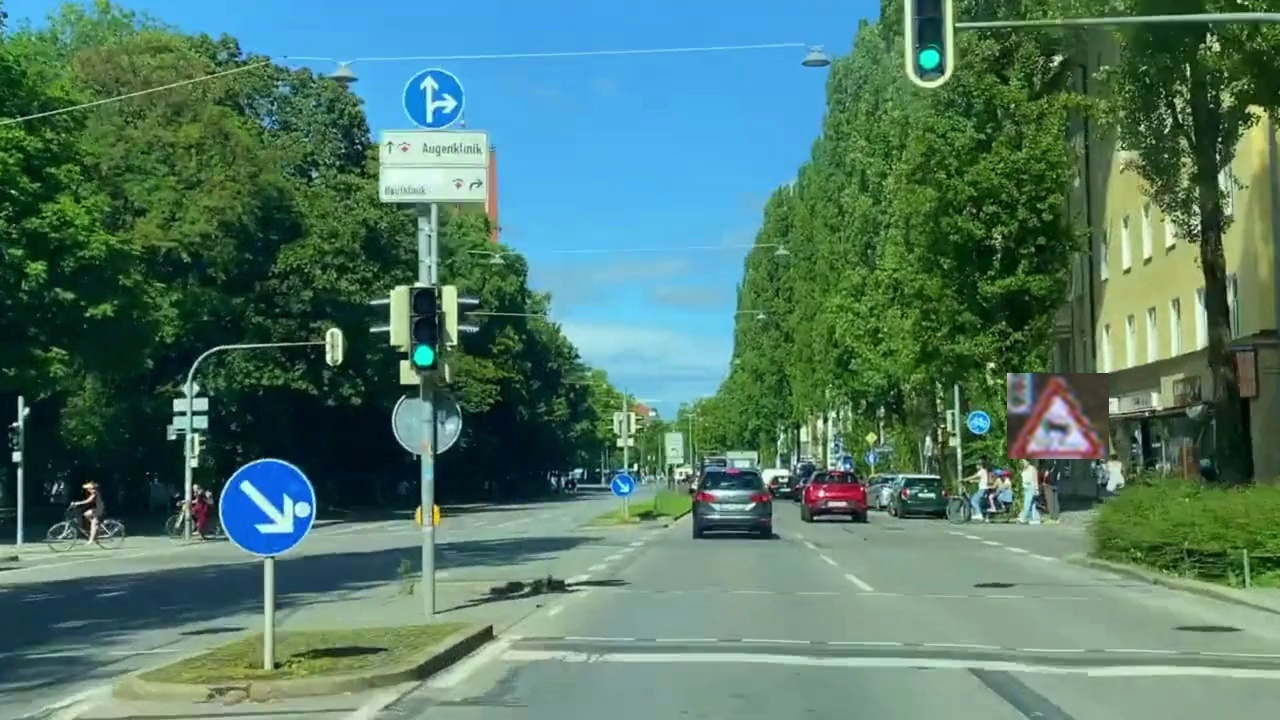Slippery: (1007, 373, 1109, 459)
